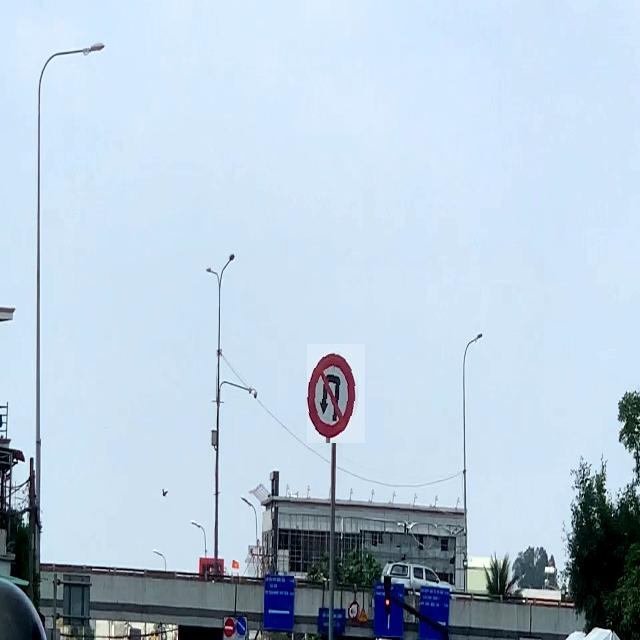bien_cam: (307, 344, 365, 443), (348, 600, 360, 620), (235, 618, 246, 638), (224, 618, 235, 638)
